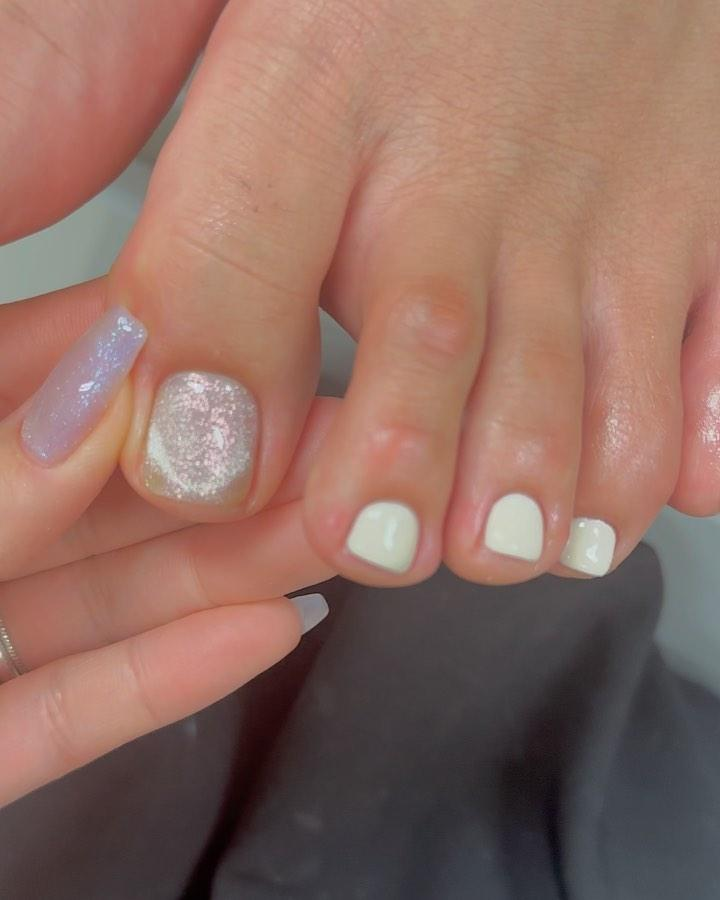nail: (17, 303, 148, 468), (137, 368, 260, 510), (344, 499, 420, 574), (481, 490, 544, 563), (558, 515, 616, 577), (288, 592, 329, 635)
